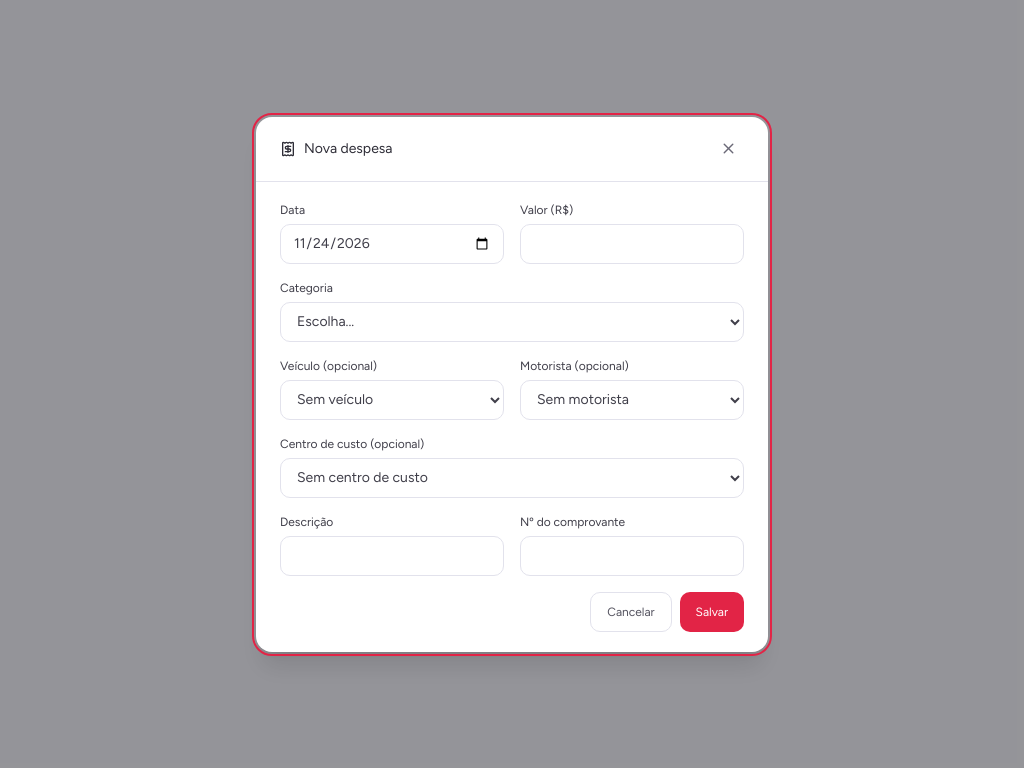
Test: DespesaAvulsaModal: valor em reais › valor abc mostra o erro no campo e não envia
This screenshot has width=1024, height=768.
Select "Pedágio" in the dropdown labelled "Categoria" at (512, 322), box [280,302,744,342]
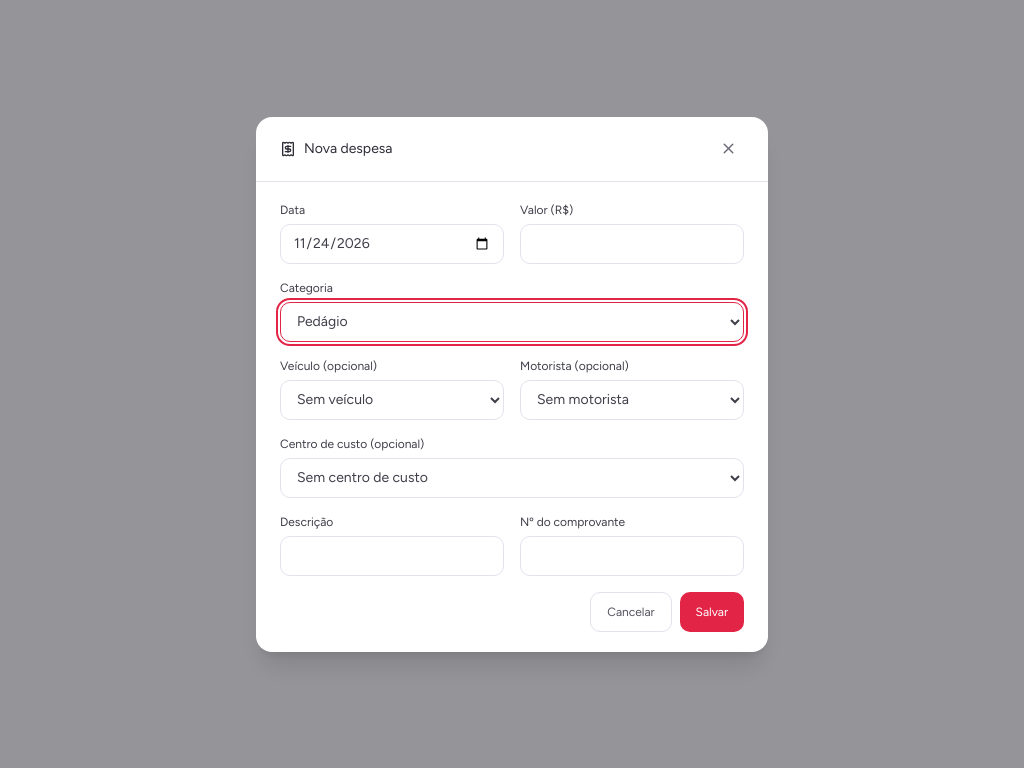
Type "abc" into the field labelled "Valor (R$)".
click(632, 244); type("abc")  # box [520,224,744,264]
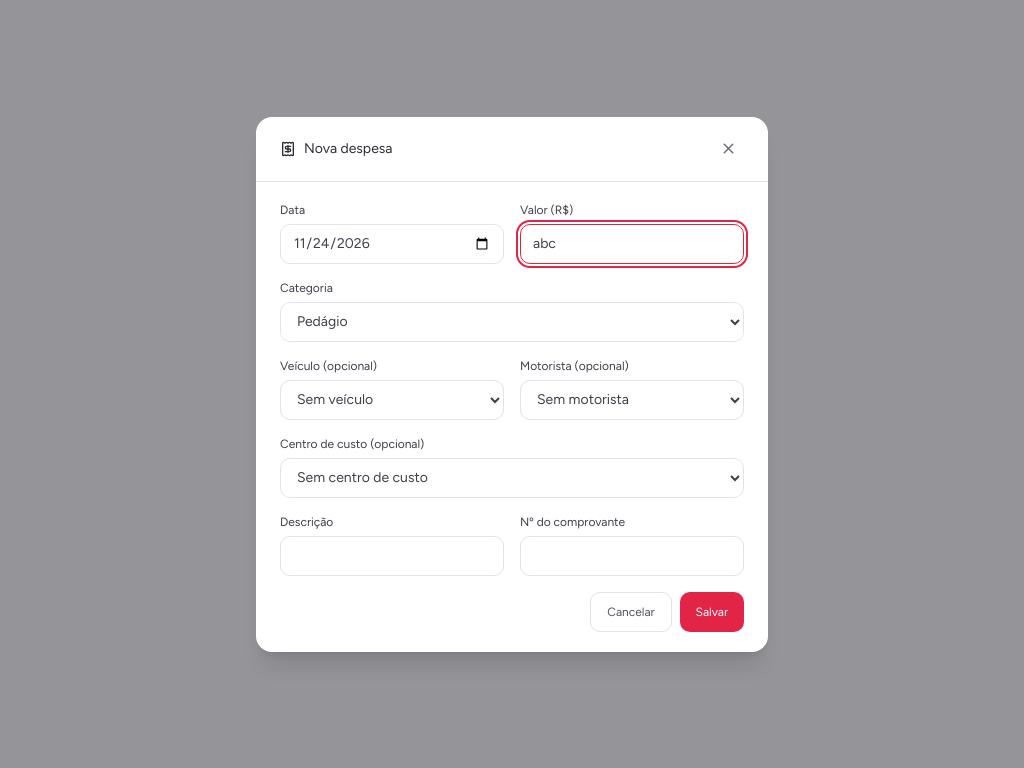
Click the button "Salvar".
click(712, 612)  # box [680,592,744,632]
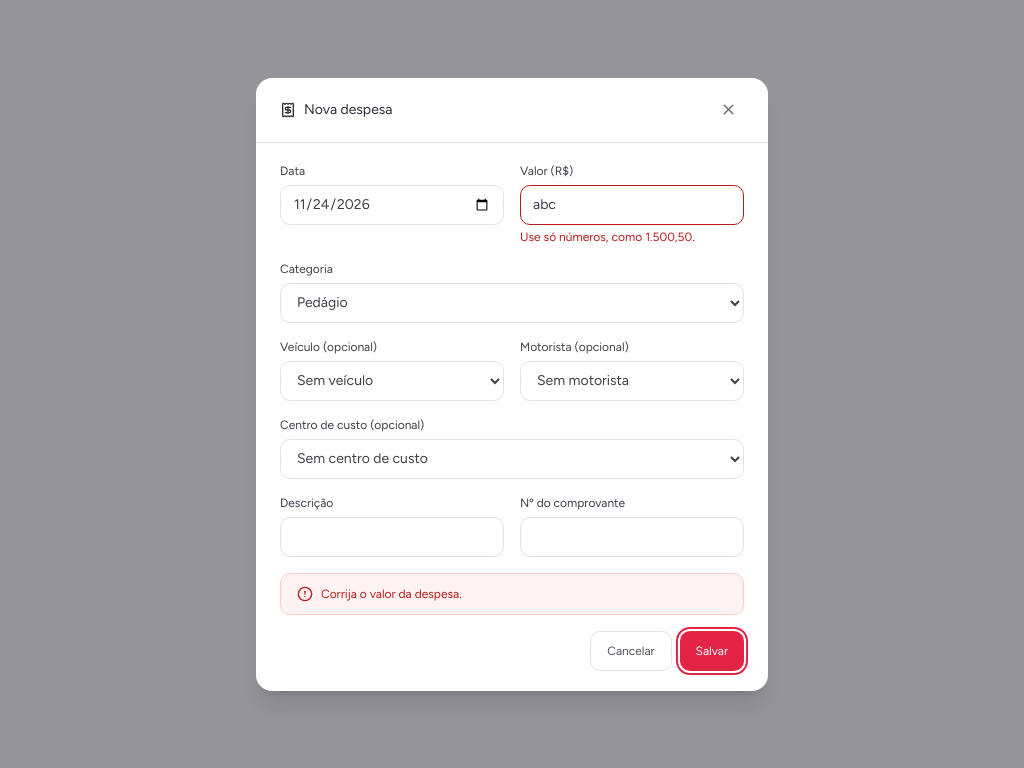
Check: the text "Use só números, como 1.500,50." is shown, box [520,230,695,244]
